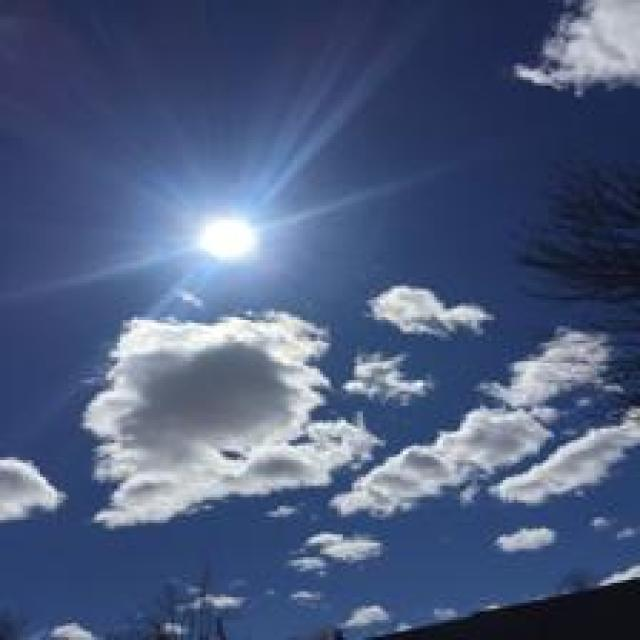sun: (201, 219, 256, 259)
